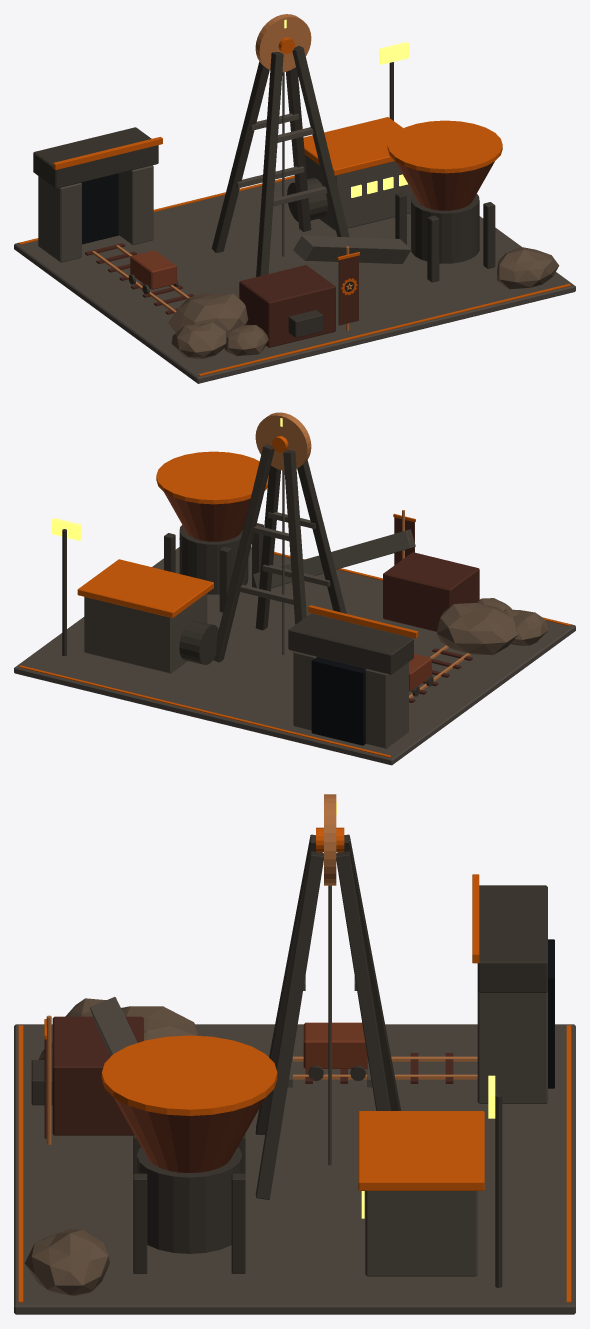
File: Thorvald_DeepMineWorks.fbx
3 views of the same model, one above another, from view 1: azimuth 30°, elevation 25°; view 2: azimuth 150°, elevation 25°; view 3: azimuth 270°, elevation 25° (orthographic). The views are drawn at different scales.
Parts seen in each view (by area): view 1: Thorvald_DeepMineWorks; view 2: Thorvald_DeepMineWorks; view 3: Thorvald_DeepMineWorks.
Boxes of the visible parts, left/top/right/bottom form: Thorvald_DeepMineWorks: left=14, top=14, right=575, bottom=383; Thorvald_DeepMineWorks: left=14, top=412, right=575, bottom=765; Thorvald_DeepMineWorks: left=14, top=794, right=575, bottom=1314.
Size of the model in its own units: 19 by 11.85 by 16.
Materials: 11 (1 with a texture image).
